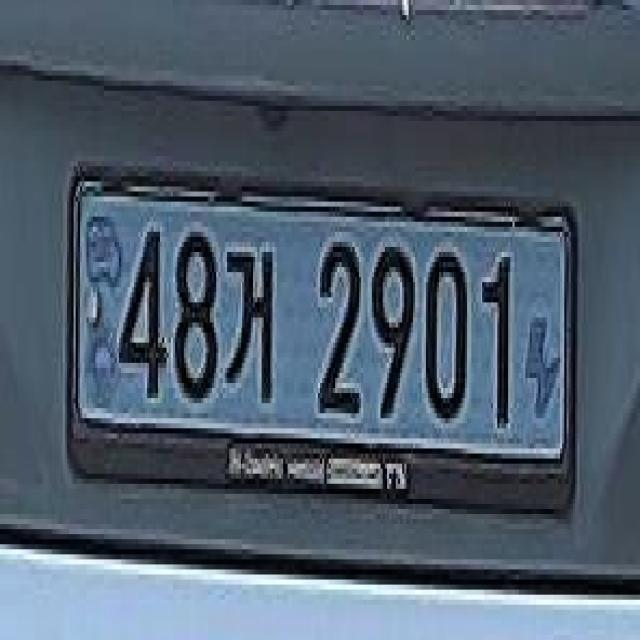EV_plate: (63, 154, 576, 526)
